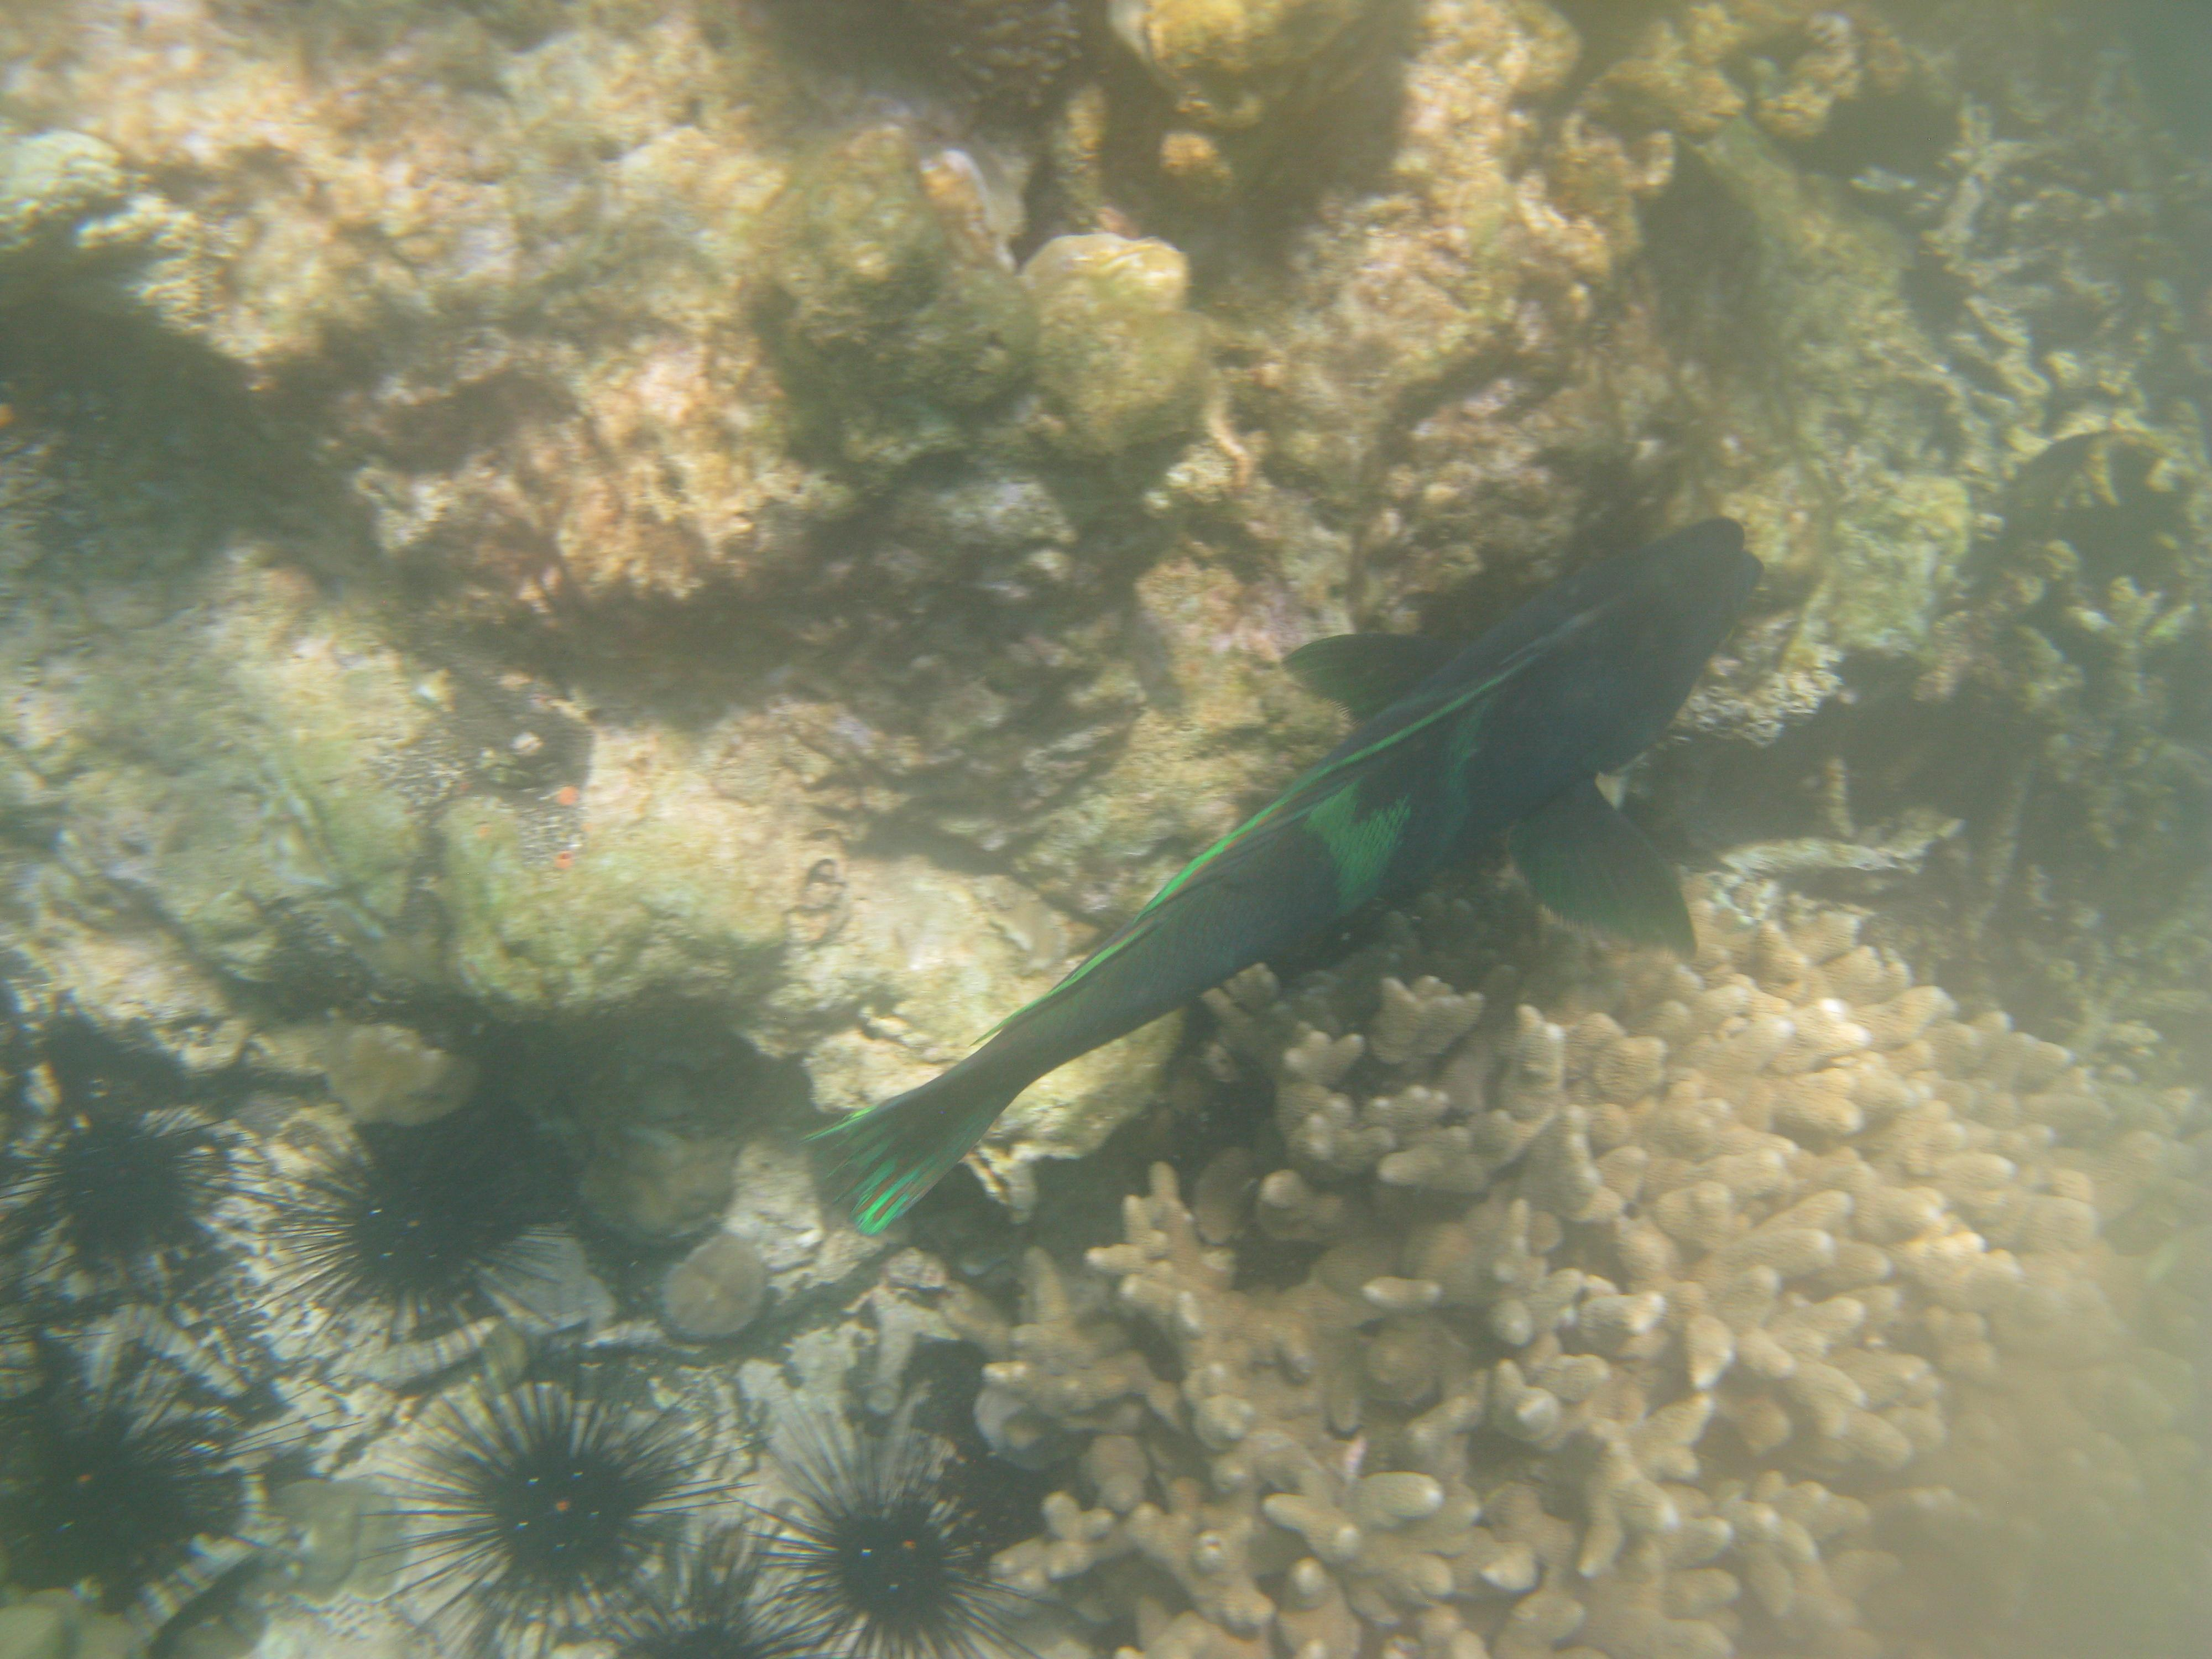Fish: (650, 500, 1930, 1330)
